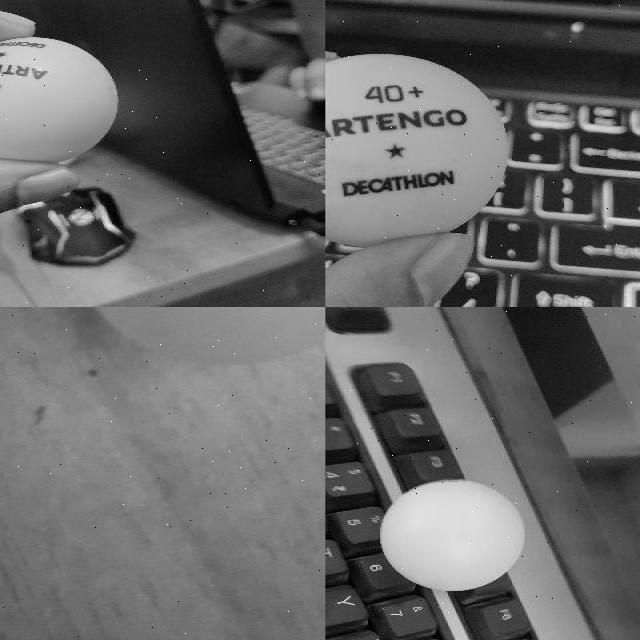ping-pong-ball: (325, 54, 515, 247), (382, 480, 526, 592), (0, 38, 115, 165), (73, 307, 324, 363)
